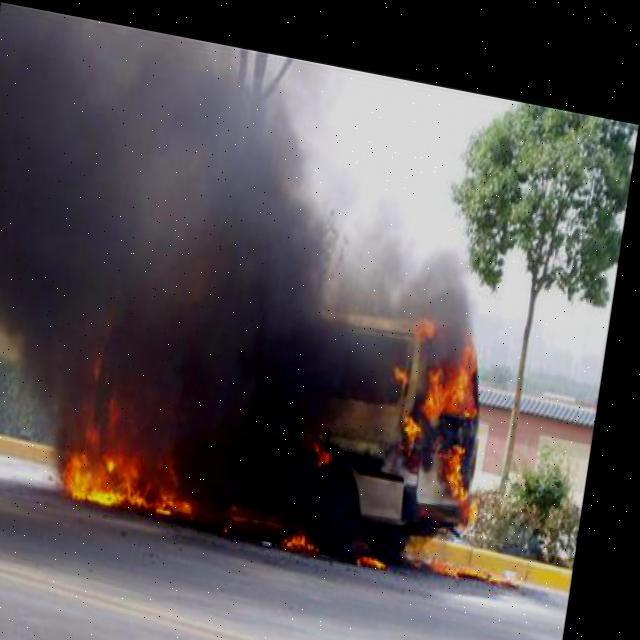Fire: (65, 334, 227, 514), (390, 294, 510, 490), (290, 510, 337, 544), (368, 523, 401, 554), (316, 419, 346, 452)
